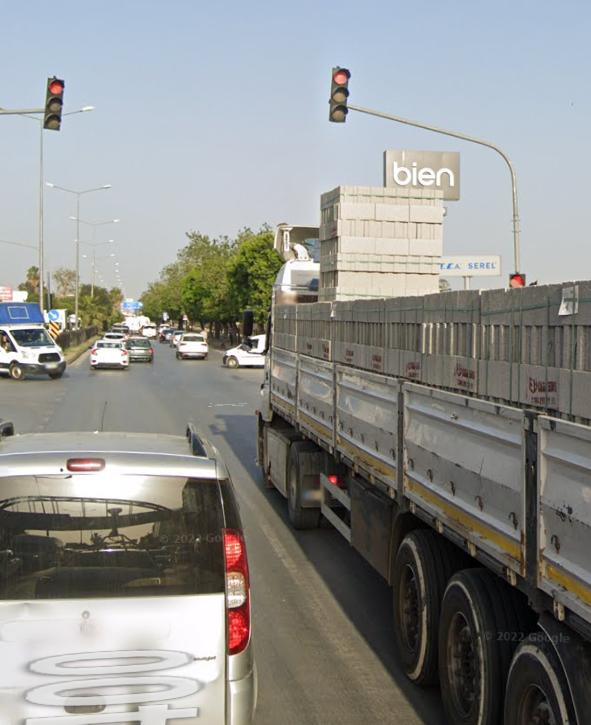redlight: (44, 76, 64, 131), (330, 67, 349, 122)
